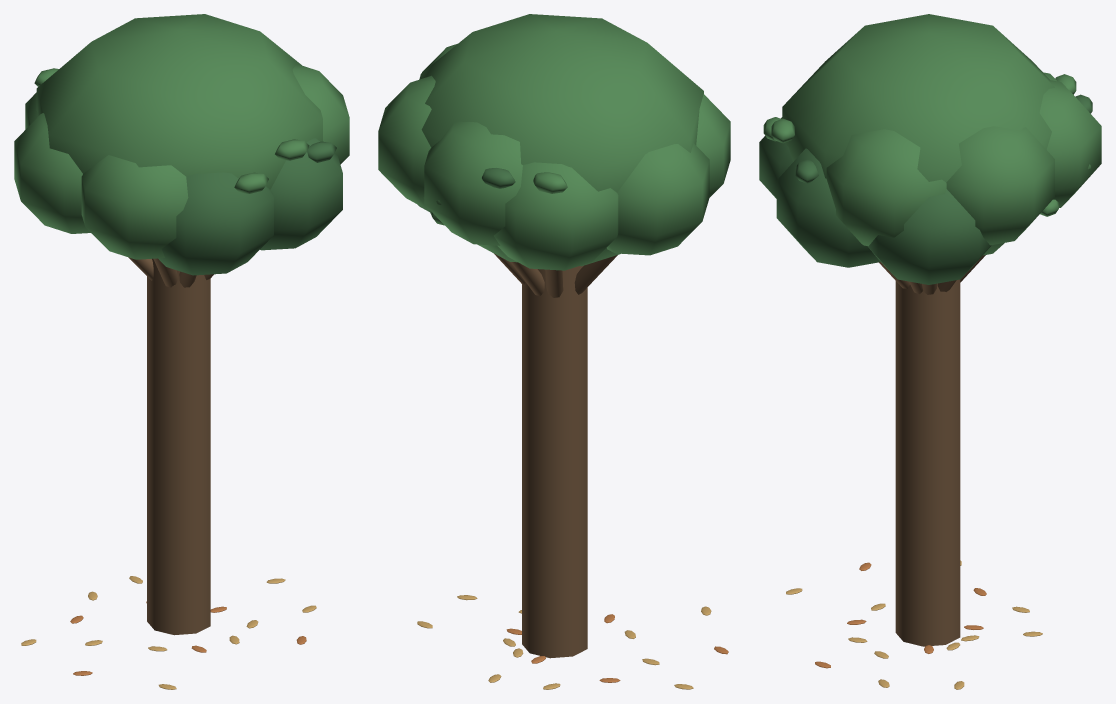
The model's file is oak.glb.
3 views of the same model, side by side, from view 1: azimuth 30°, elevation 25°; view 2: azimuth 150°, elevation 25°; view 3: azimuth 270°, elevation 25° (orthographic). The views are drawn at different scales.
Parts seen in each view (by area): view 1: Canopy, Trunk, LeafCloud0, Leaf1; view 2: Canopy, Trunk, Leaf1, LeafCloud0; view 3: Canopy, Trunk, LeafCloud0, Leaf1.
Boxes of the visible parts, box(x1,y1,x2,y2) form: Canopy: box(14, 14, 349, 259); Trunk: box(128, 257, 213, 635); LeafCloud0: box(158, 138, 342, 275); Leaf1: box(21, 576, 316, 689); Canopy: box(378, 14, 730, 270); Trunk: box(494, 253, 617, 658); Leaf1: box(417, 595, 711, 689); LeafCloud0: box(417, 168, 515, 211); Canopy: box(763, 14, 1101, 255); Trunk: box(879, 255, 985, 646); LeafCloud0: box(759, 94, 1092, 284); Leaf1: box(786, 560, 1042, 689).
Size of the model in its own units: 4.68 by 8.75 by 4.53.
